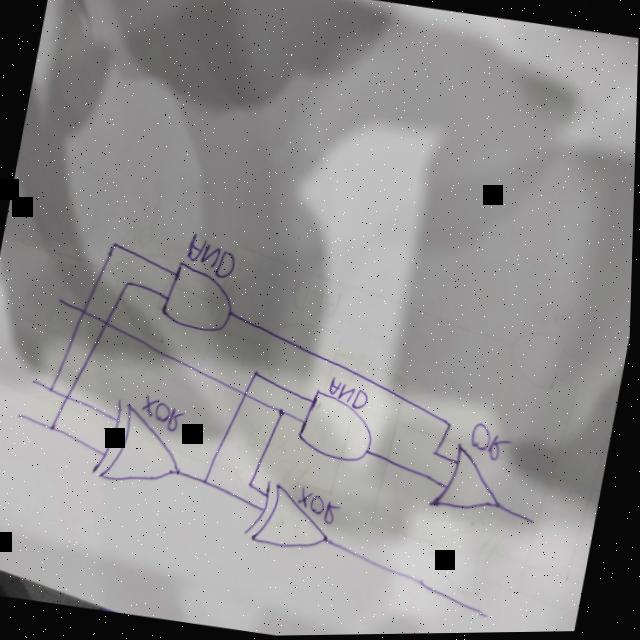crossover: (60, 391, 75, 406), (79, 306, 90, 317), (102, 318, 112, 330), (242, 390, 251, 401)
junction: (107, 238, 123, 254), (442, 417, 458, 433), (432, 447, 444, 462), (200, 475, 212, 489), (251, 367, 263, 380), (276, 408, 288, 420), (48, 422, 59, 434), (122, 278, 133, 289), (48, 384, 58, 394), (247, 479, 256, 490)
terminal: (477, 607, 499, 626), (523, 513, 540, 531), (14, 410, 26, 422), (55, 295, 66, 306), (31, 376, 40, 386)
text: (184, 234, 238, 280), (295, 484, 347, 529), (139, 393, 190, 436), (467, 424, 515, 462), (325, 379, 372, 414)
